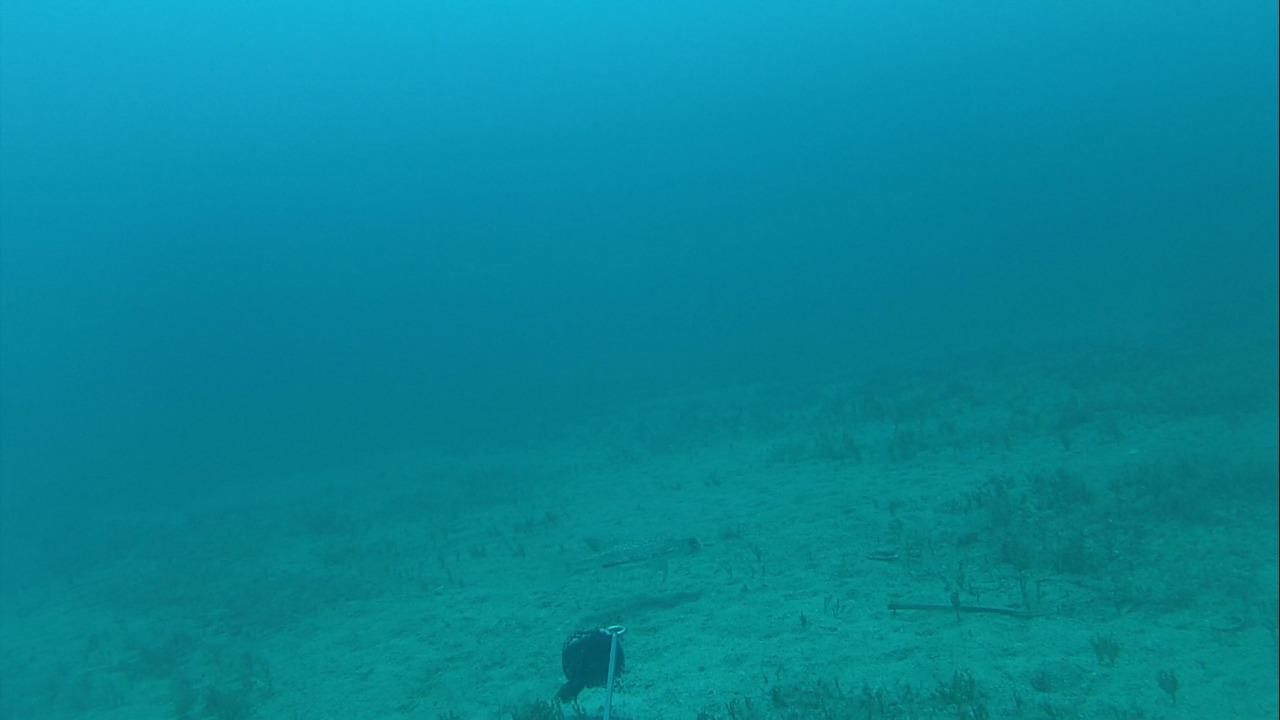dactylopterus: (562, 529, 711, 594)
